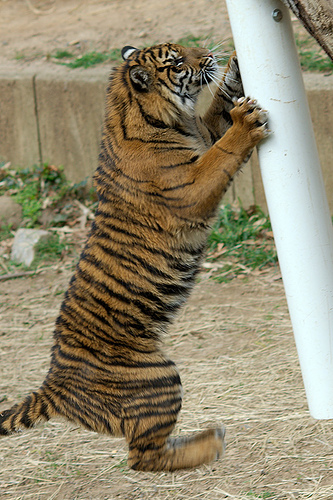Tigre: (42, 36, 267, 468)
